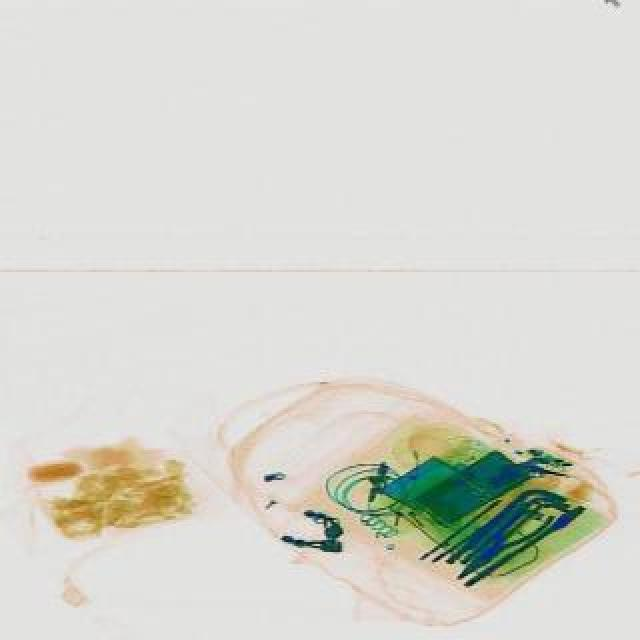wrench: (442, 494, 554, 590)
